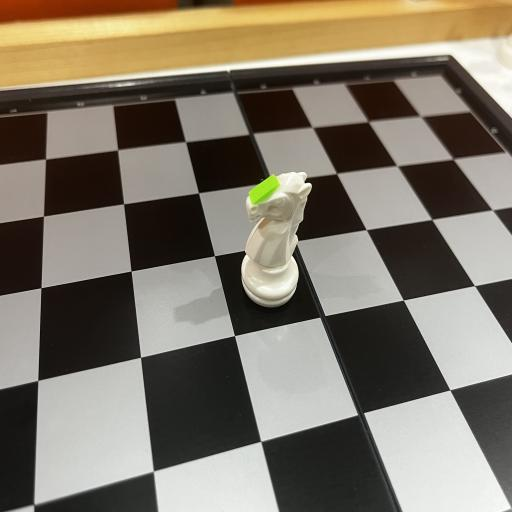White knight: (241, 172, 311, 307)
